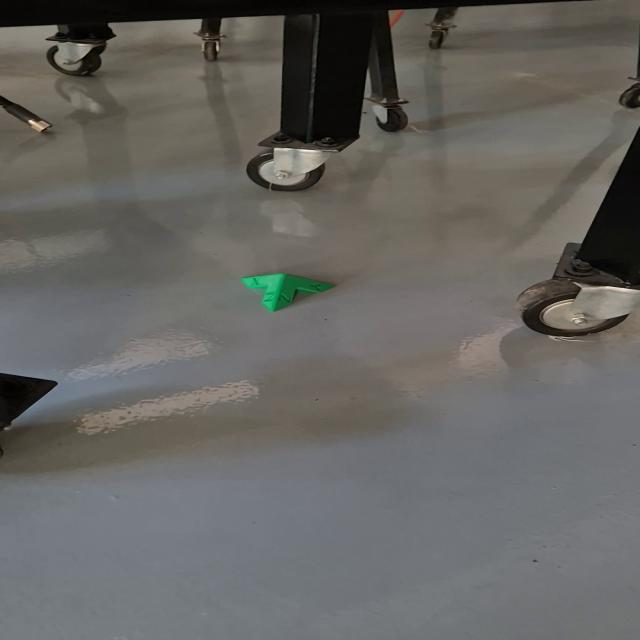objects: (238, 272, 338, 313)
